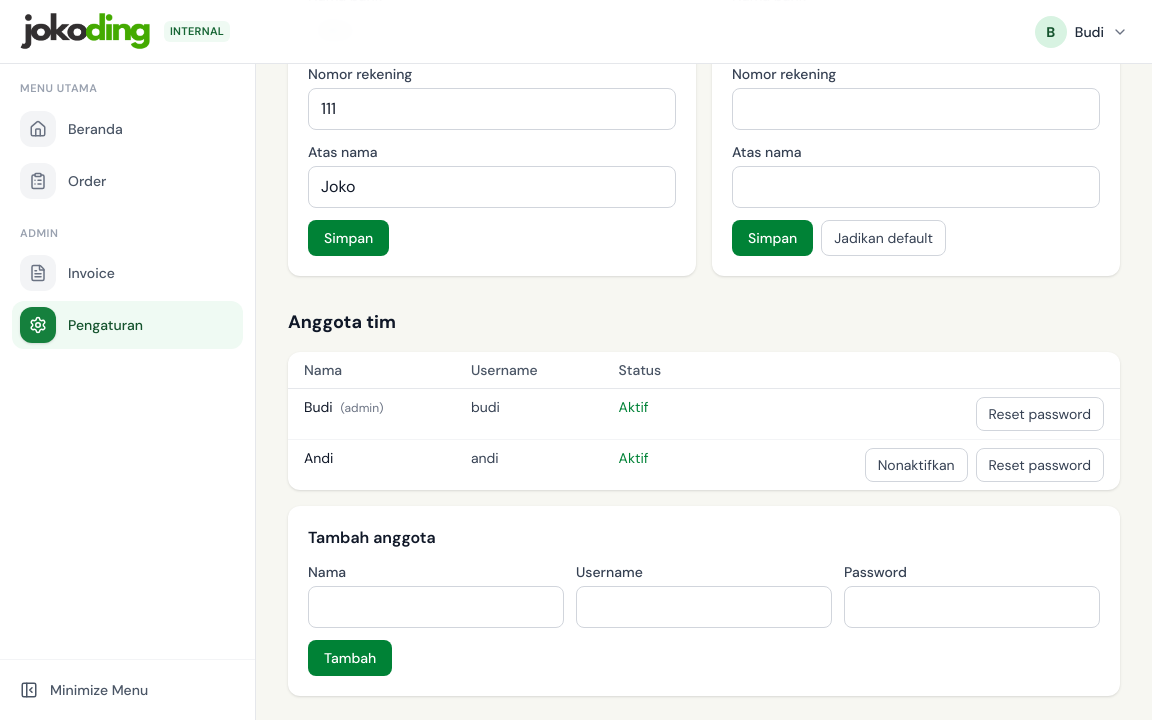
Test: Pengaturan › admin adds a member, deactivates one, and resets a password
(page scrolled)
Click the button "Nonaktifkan".
click(916, 465)  # box [865,448,968,482]
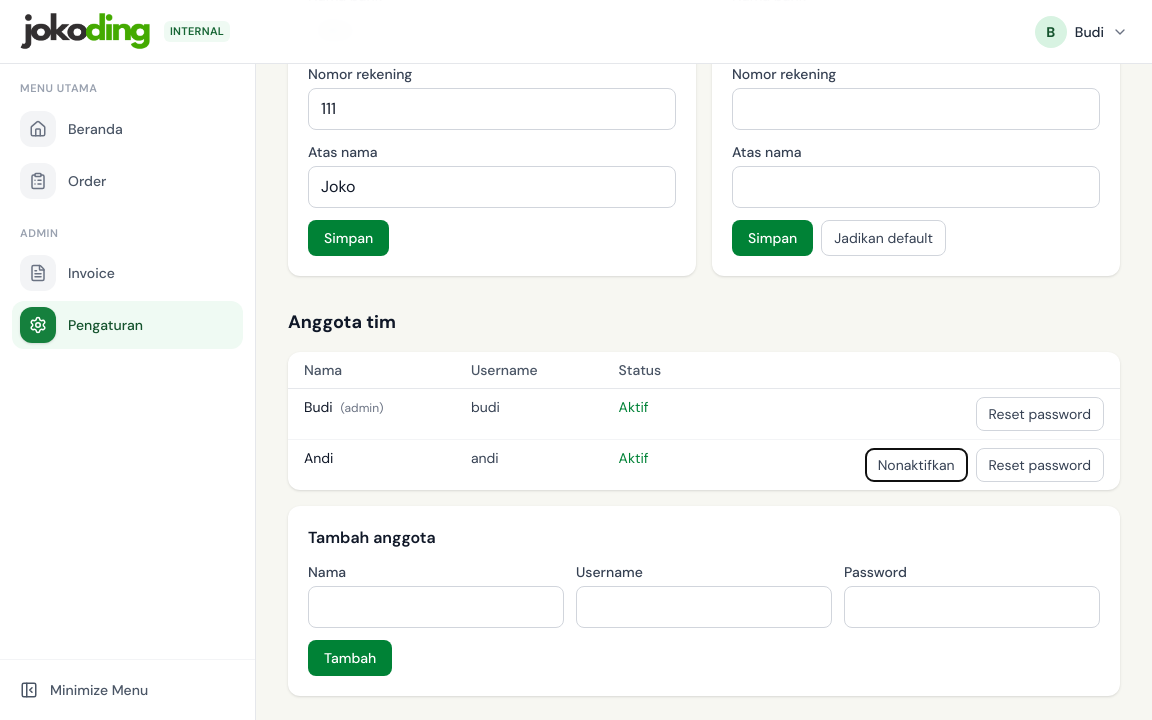
Type "Cici" into the field labelled "Nama".
click(436, 607); type("Cici")  # box [308,586,564,628]
Type "cici" into the field labelled "Username".
click(704, 607); type("cici")  # box [576,586,832,628]
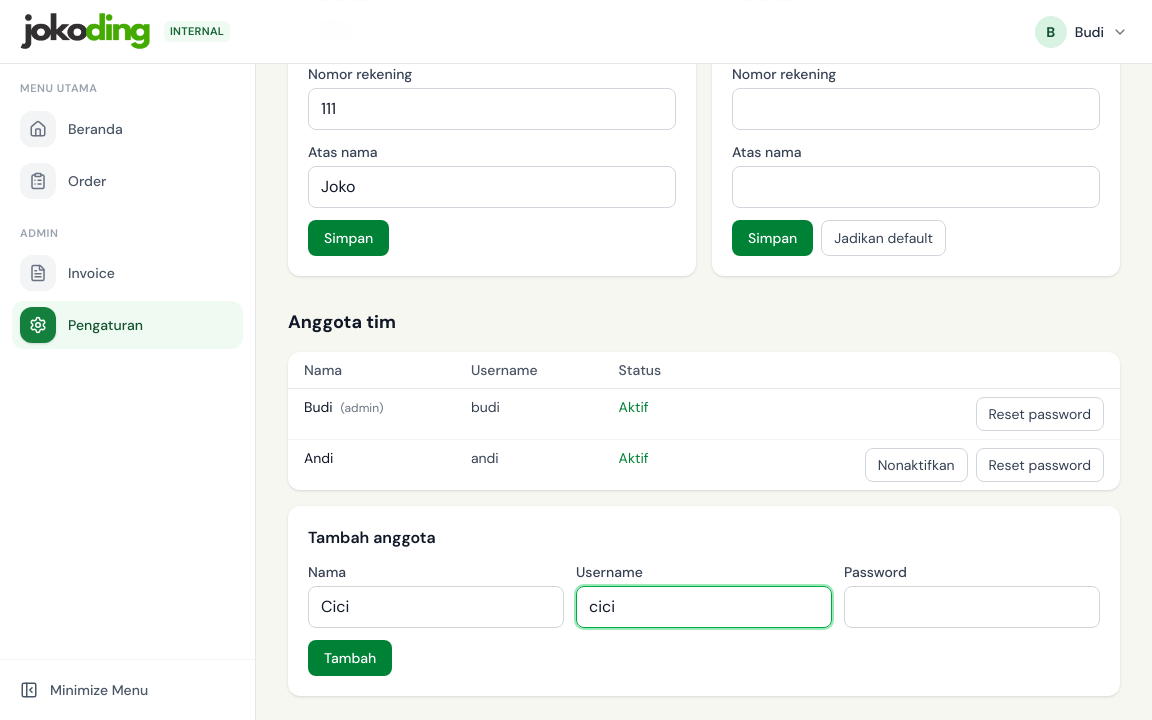
Type "password1" into the password field labelled "Password".
click(972, 607); type("password1")  # box [844,586,1100,628]
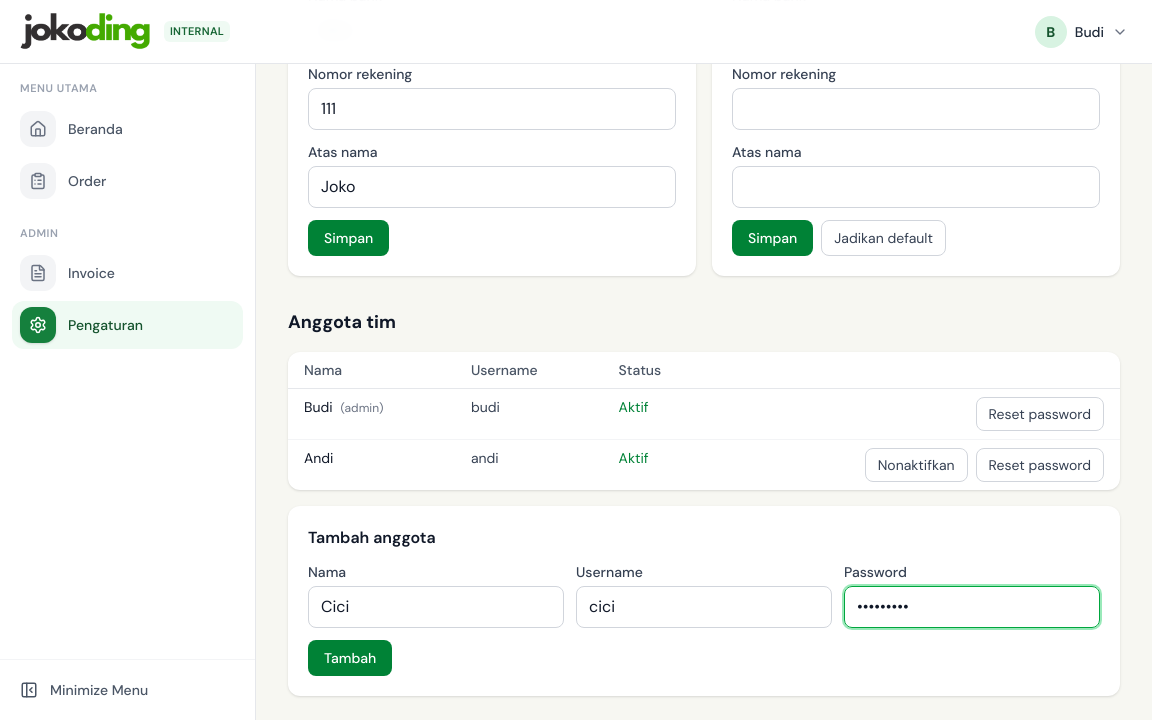
Click the button "Tambah".
click(350, 658)  # box [308,640,392,676]
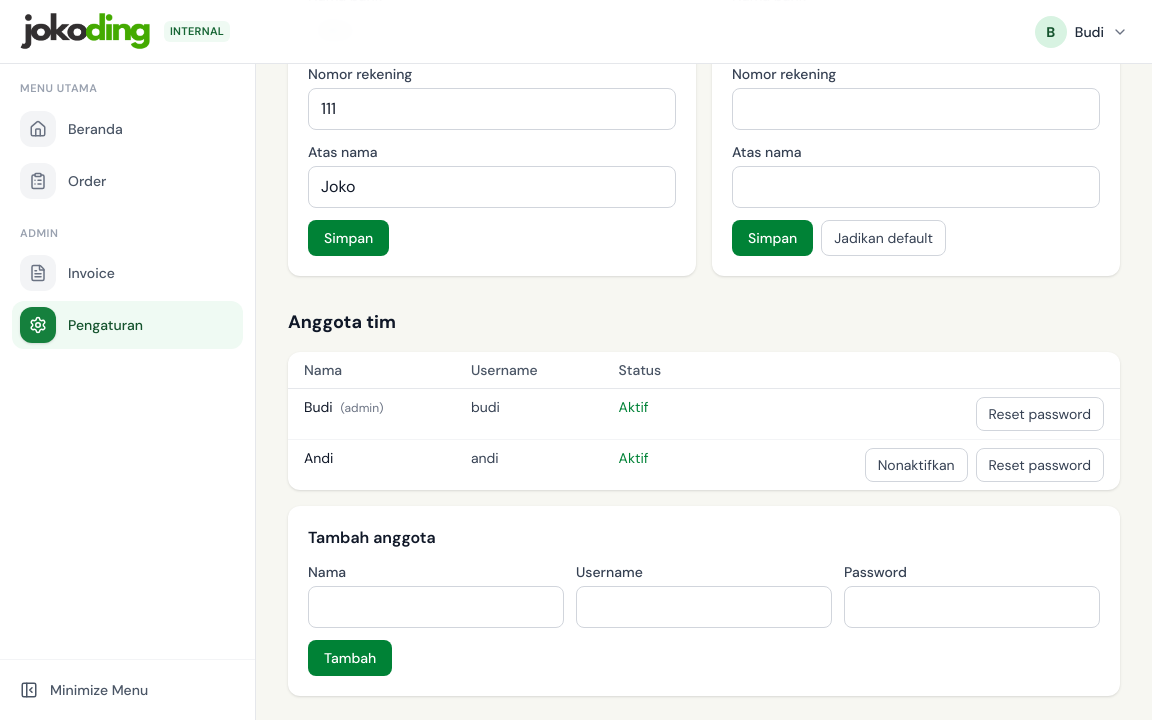
Click the 2nd button "Reset password".
click(1040, 465)  # box [976,448,1104,482]
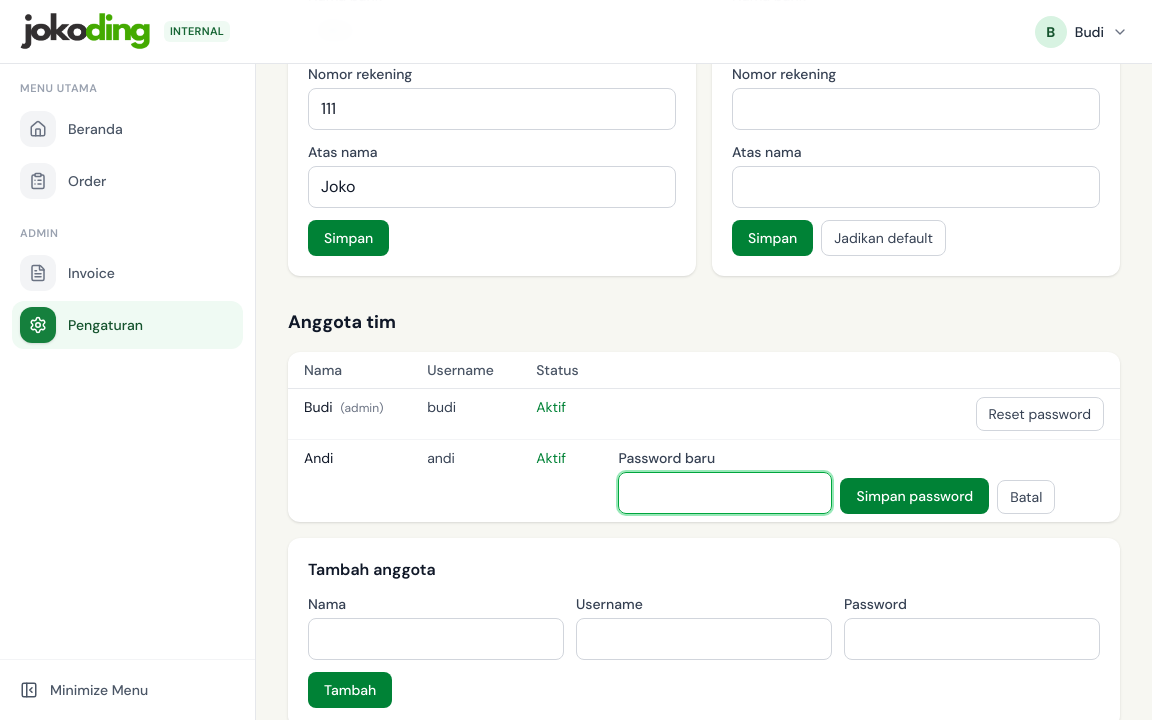
Type "newpassword" into the password field labelled "Password baru".
click(726, 493); type("newpassword")  # box [618,472,832,514]
Click the button "Simpan password".
click(915, 496)  # box [840,478,989,514]
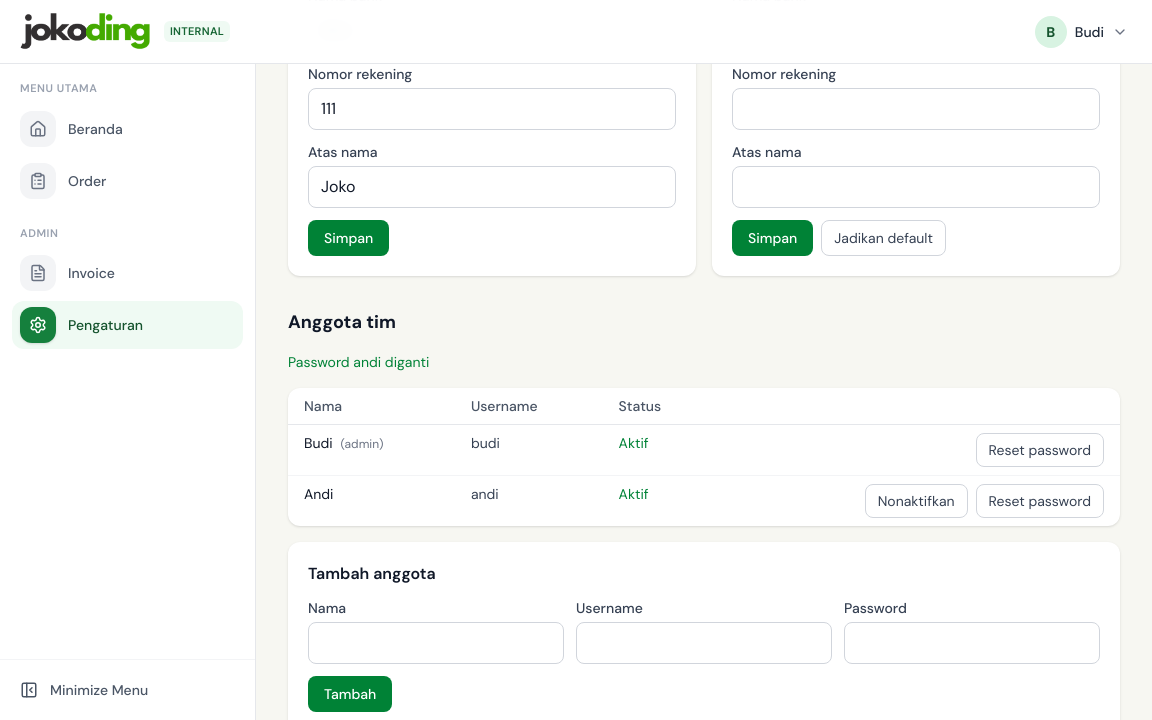
Now the text "Password andi diganti" is shown, box [288,353,429,371]
